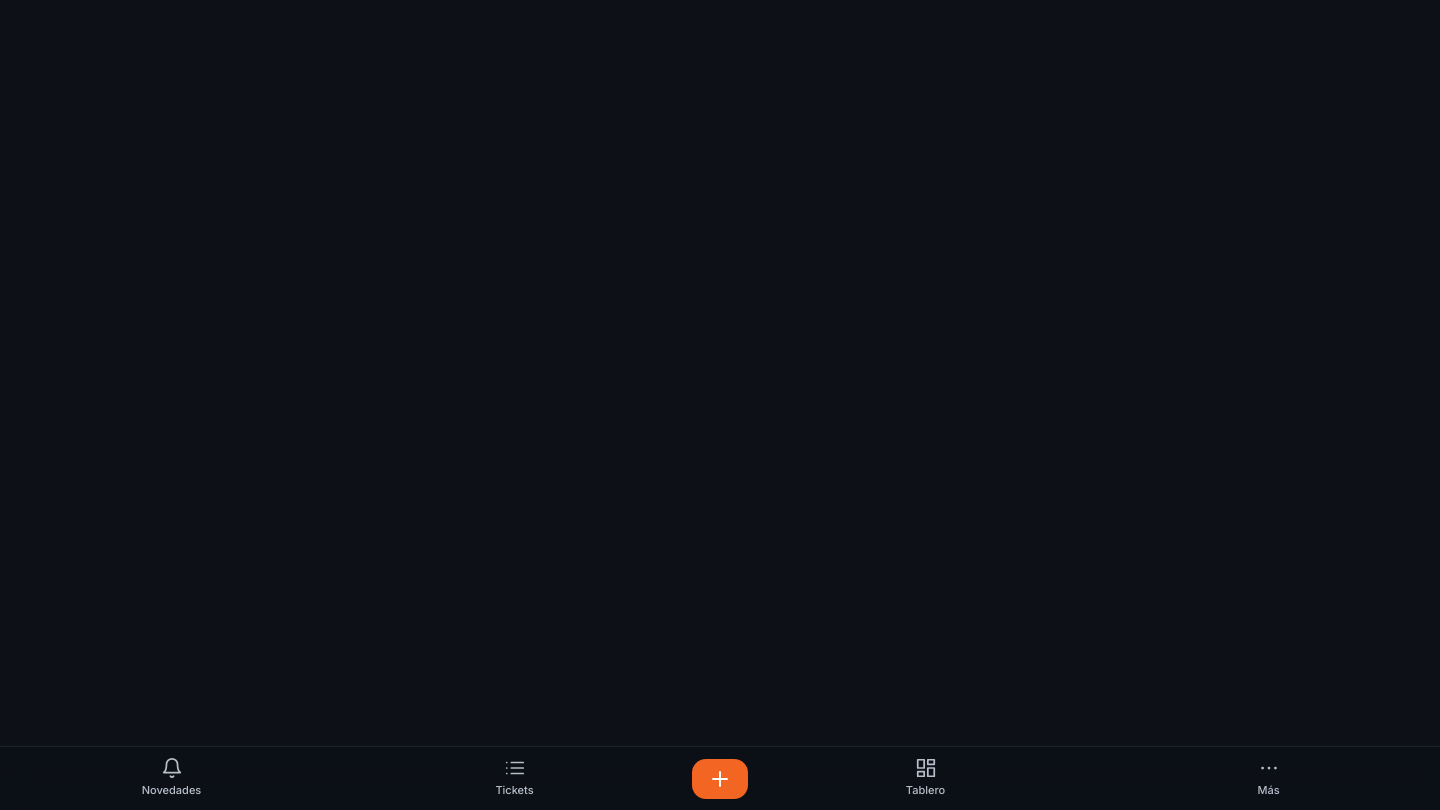
Scenario: NavegacionMovil › quien entra con Microsoft 365 no ve "Cambiar contraseña"
The image size is (1440, 810).
Click the button "Más".
click(1268, 778)  # box [1097,747,1439,809]
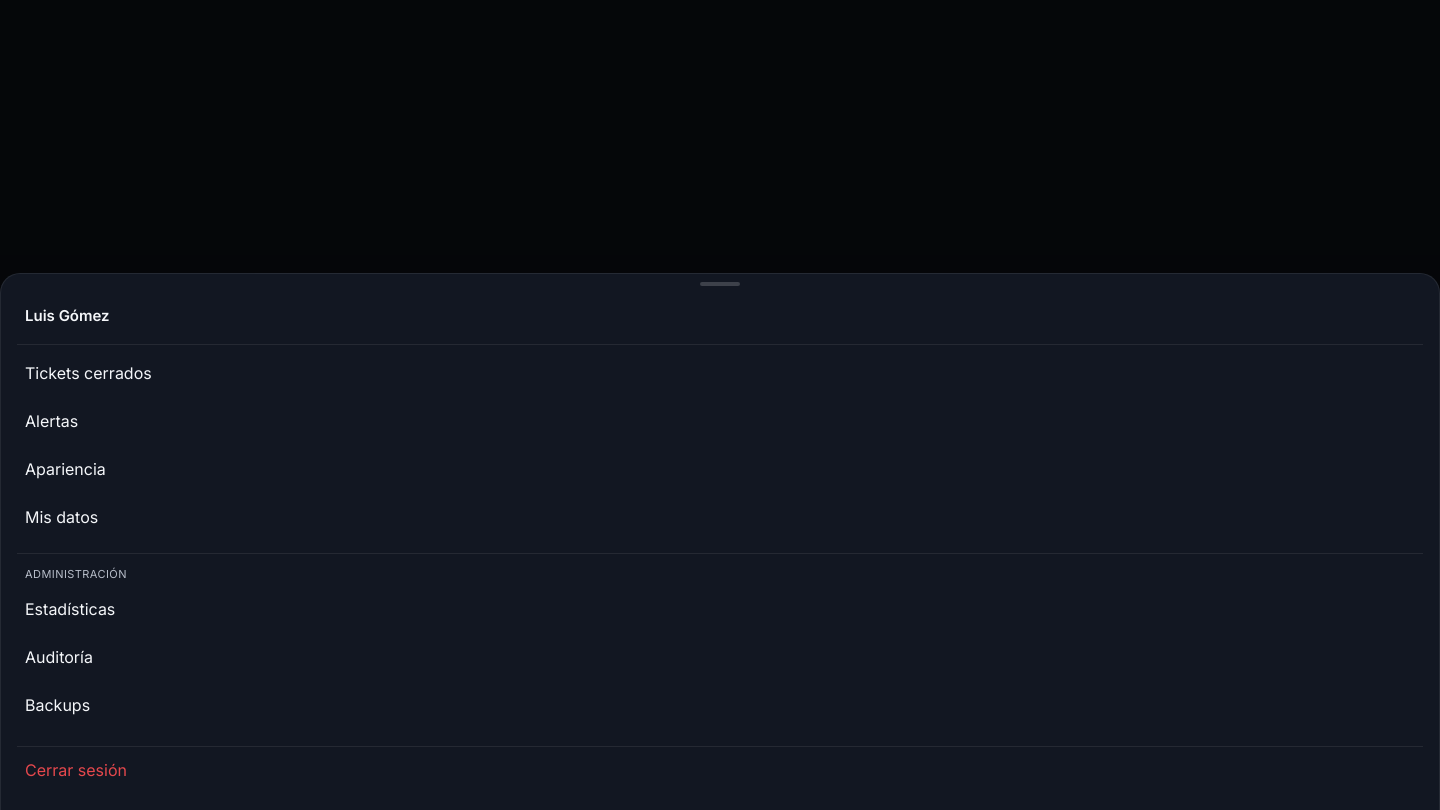
Now the button "Mis datos" is shown, box [17,493,1423,541]
